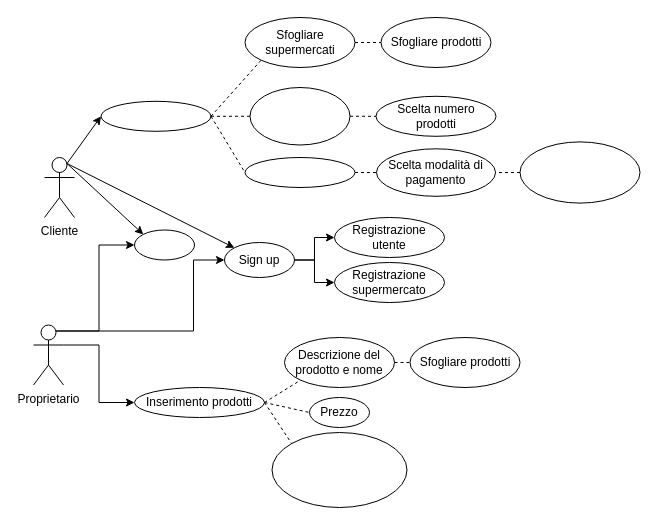
Image size: 657x525. Some labels were removed from this diagram. The shapes that lost their labels are listed below. From the top down, each one's centre as x and y in pixels, then its label:
At point (155, 115): "Comprare prodotti".
At point (299, 115): "Inserimento prodotti nel carrello".
At point (299, 172): "Checkout".
At point (579, 172): "Pagamento e conferma ordine con data di consegna".
At point (164, 244): "Log in".
At point (339, 470): "Aggiornamento disponibilità automatico o manuale".
